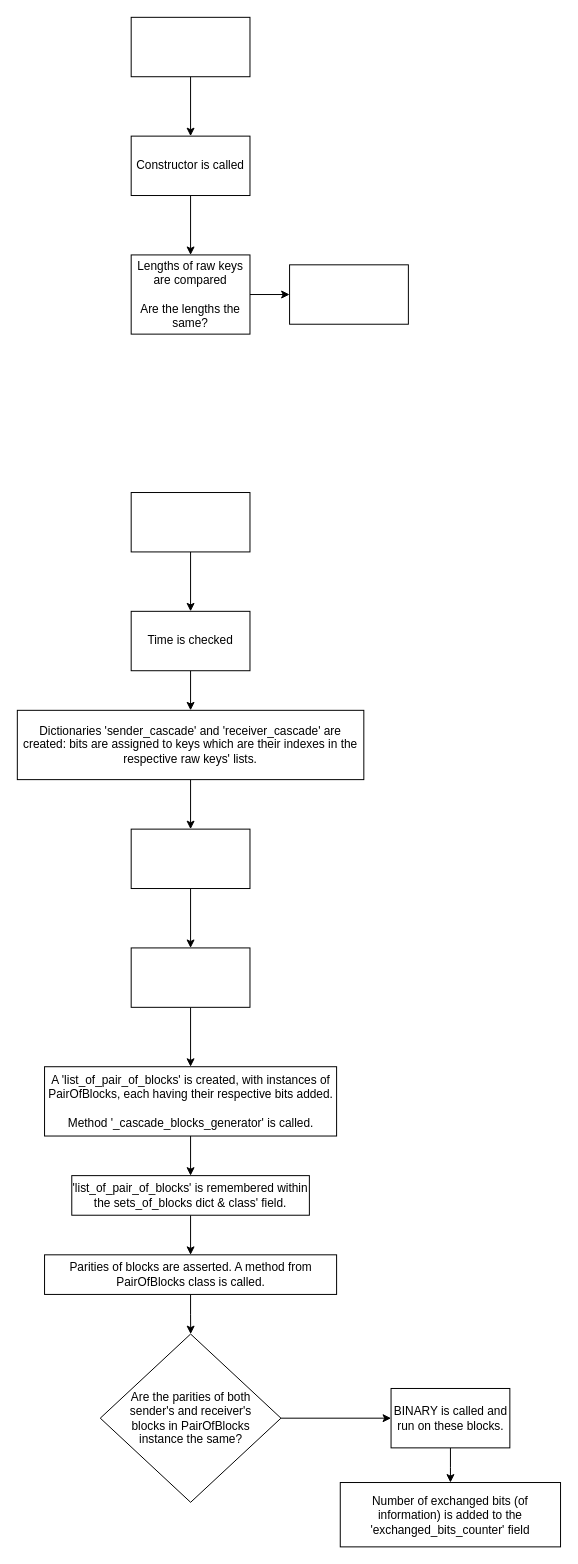
Some shapes in this 578 by 1564 pixel diagram are drawn without their labels. The shapes that lost their labels are listed below. From the top down, each one's centre as x and y in pixels, then its label:
(190,46): Fields are created
(348,294): ValueError
(190,522): CASCADE blocks (of bits' indexes) are created
(190,858): CASCADE block sizes are computed
(190,977): Numbers of blocks in each pass are computed
